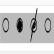correct: (15, 14, 24, 38)
not correct: (29, 6, 39, 44)
